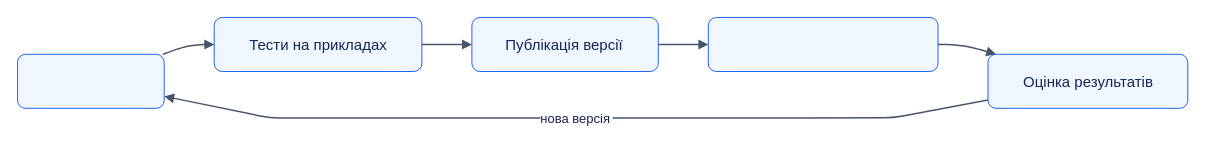
Some shapes in this 1206 by 144 pixel diagram are drawn without their labels. The shapes that lost their labels are listed below. From the top down, each one's box as (x1, y1, x2, y2) in pixels, then its label:
(707, 16, 938, 72): Вибір версії в завданні
(16, 53, 164, 108): Код і схеми
